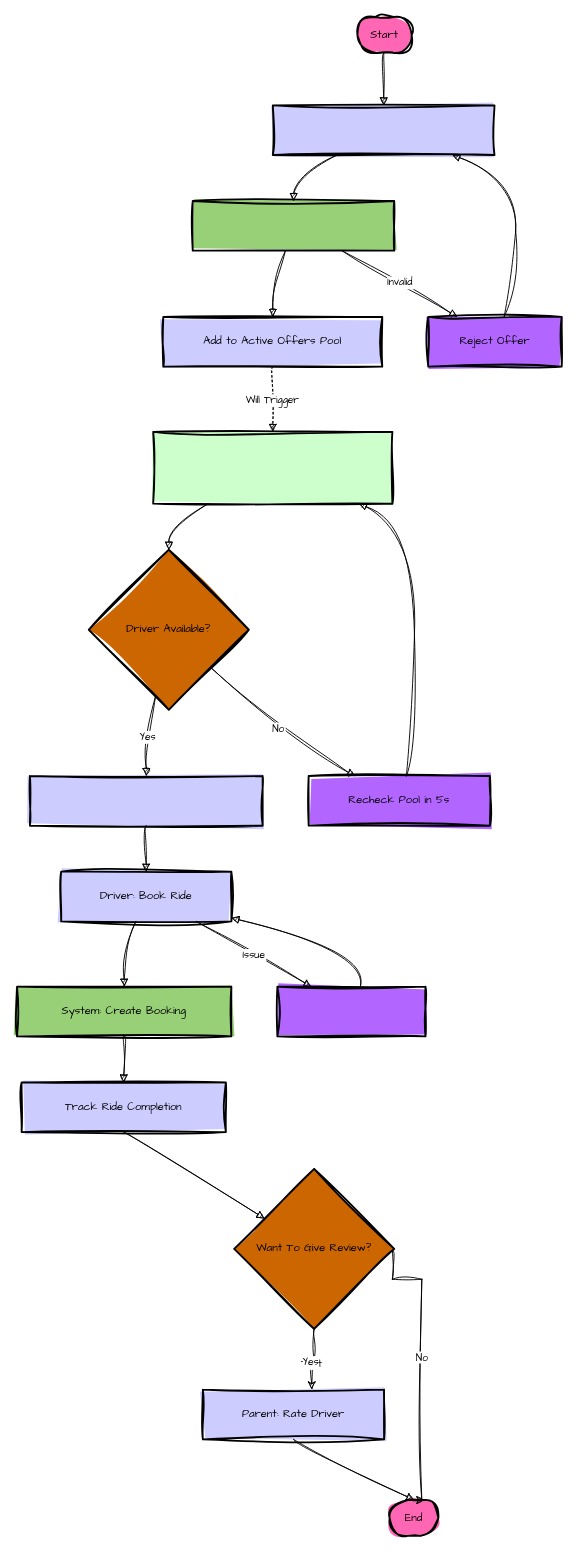
The diagram is 578 pixels wide and 1552 high, and some of its shapes have lost their labels. The shapes that lost their labels are listed below. From the top down, each one's centre as x and y in pixels, then its label:
the point at 383,129: Parent: Create Ride Offer
the point at 293,225: System: Validate Offer
the point at 272,467: Background Thread: Scan Offers
the point at 146,800: Driver: Receive Notification
the point at 351,1011: Retry Booking
